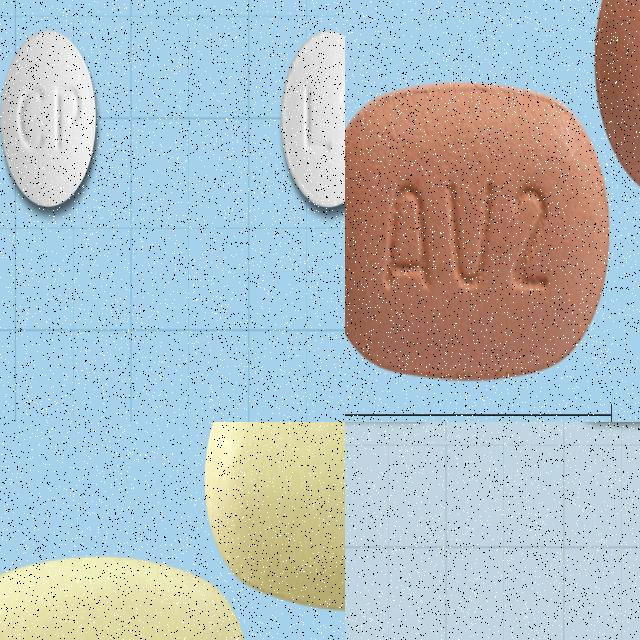Exviera: (345, 80, 610, 382)
Klaricid Film Coated: (202, 422, 345, 611), (0, 554, 252, 640)
Refloxin Tab: (0, 29, 98, 208), (280, 28, 345, 208)
